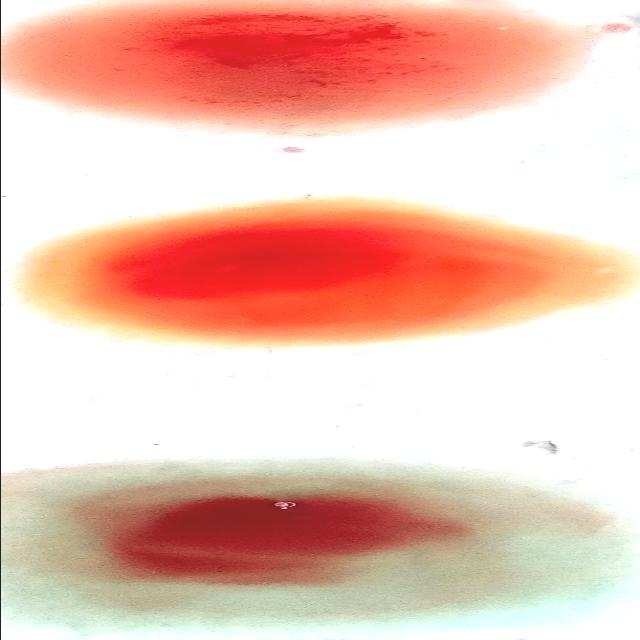D: (0, 8, 579, 114)
